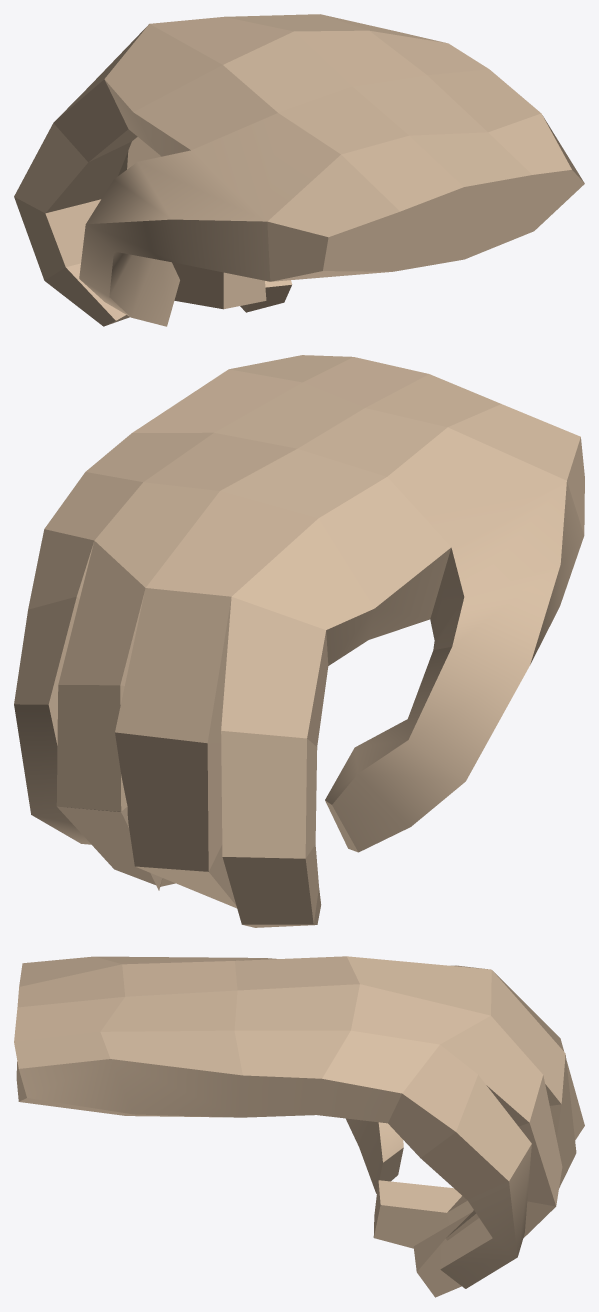
Rendered from Hand_Closed.fbx.
3 views of the same model, one above another, from view 1: azimuth 30°, elevation 25°; view 2: azimuth 150°, elevation 25°; view 3: azimuth 270°, elevation 25° (orthographic). The views are drawn at different scales.
Parts seen in each view (by area): view 1: Hand_1; view 2: Hand_1; view 3: Hand_1.
Part boxes in pixels (<box>): Hand_1: <box>14,14,584,326</box>; Hand_1: <box>14,355,584,927</box>; Hand_1: <box>14,956,584,1297</box>.
Size of the model in its own units: 11.54 by 9.06 by 15.63.
